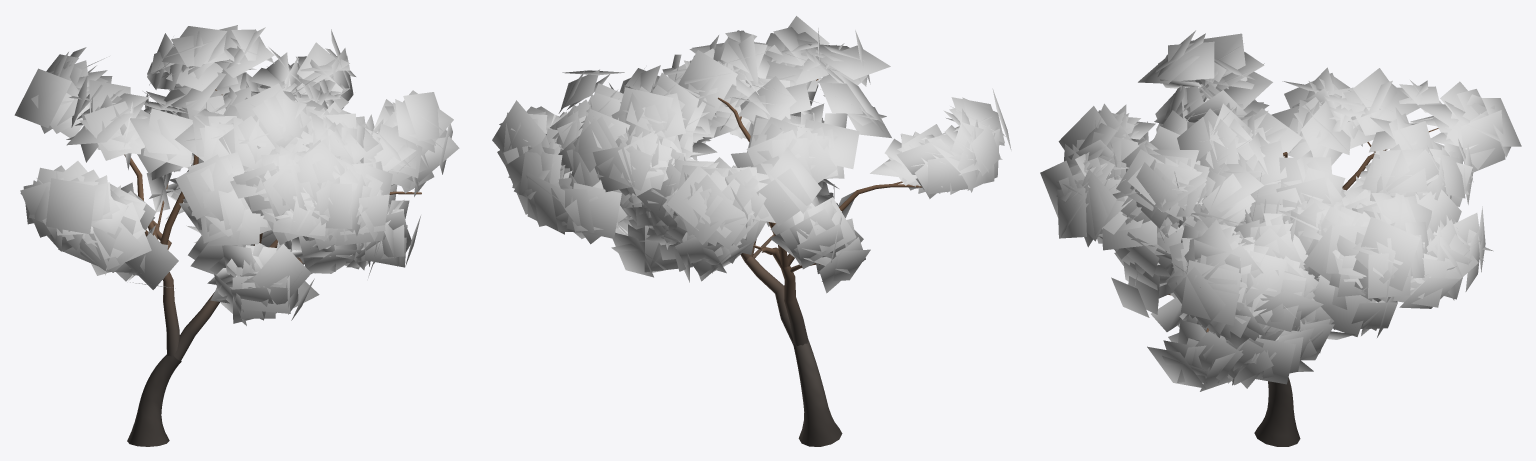
The picture shows the model from 3 angles, left to right: view 1: azimuth 30°, elevation 25°; view 2: azimuth 150°, elevation 25°; view 3: azimuth 270°, elevation 25°; orthographic projection. The views are drawn at different scales.
Visible parts, largest first — view 1: crown, trunk; view 2: crown, trunk; view 3: crown, trunk.
Boxes of the visible parts, x1,y1,x2,y2 form: crown: [14, 25, 459, 325]; trunk: [124, 89, 421, 446]; crown: [492, 16, 1011, 293]; trunk: [718, 79, 921, 446]; crown: [1040, 30, 1521, 391]; trunk: [1168, 128, 1438, 446].
Bounding box in the file's own units: 13.25 × 10.48 × 11.93.
